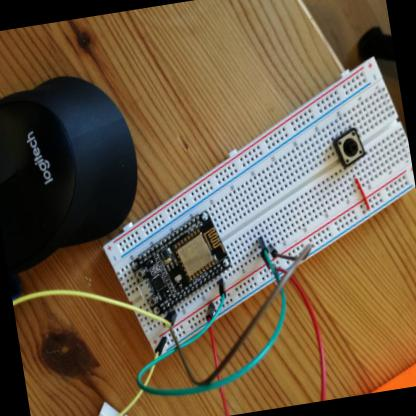ESP8266: (122, 207, 241, 322)
